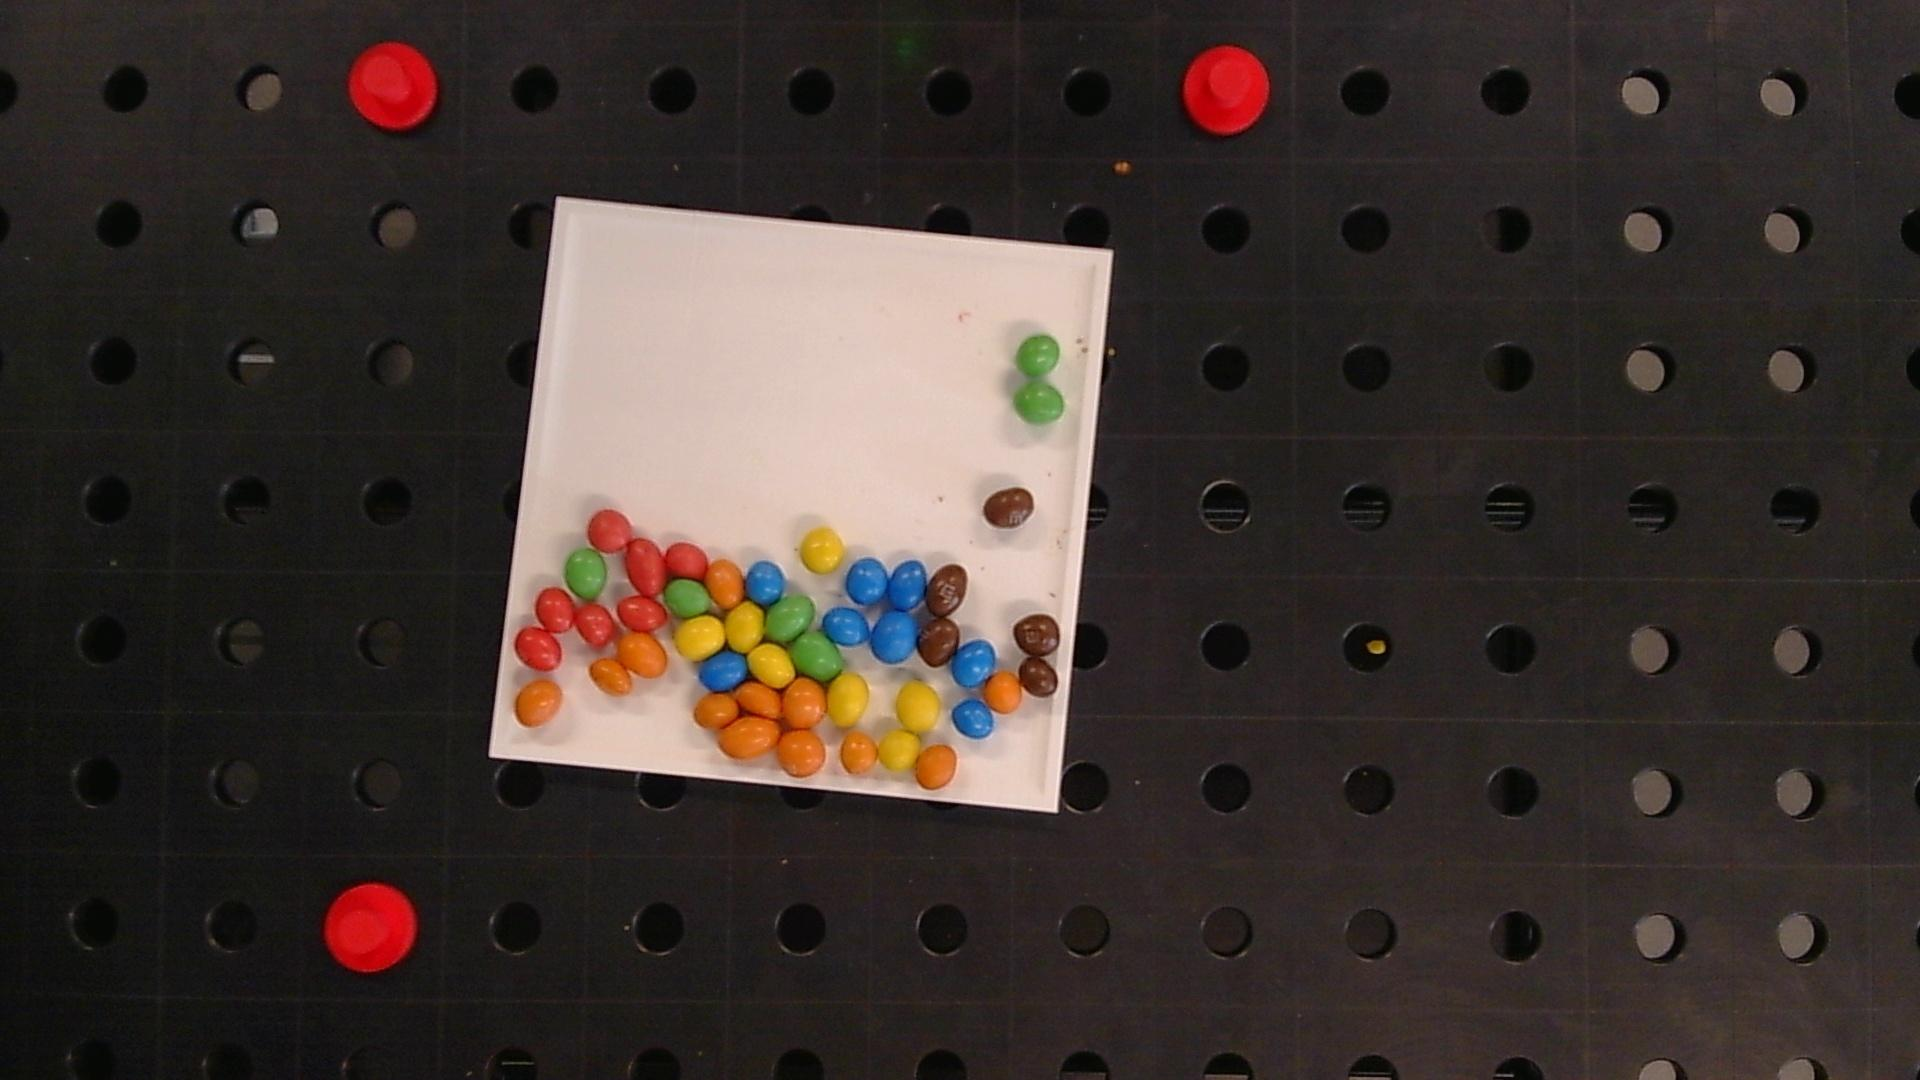blue: (870, 612, 918, 663), (951, 640, 997, 687), (847, 558, 889, 605), (889, 559, 927, 611), (700, 651, 748, 691), (823, 608, 870, 646), (952, 698, 994, 738), (745, 560, 785, 603)
brown: (927, 564, 968, 617), (982, 487, 1035, 527), (1013, 613, 1060, 657), (918, 618, 960, 666), (1018, 658, 1059, 698)
green: (1013, 382, 1067, 425), (793, 633, 841, 679), (564, 547, 607, 600), (765, 596, 814, 641), (1015, 335, 1060, 377), (666, 578, 709, 616)
orange: (719, 716, 781, 758), (617, 633, 667, 678), (777, 731, 825, 775), (514, 680, 563, 725), (783, 679, 825, 727), (914, 744, 956, 790), (707, 559, 744, 607), (984, 671, 1022, 713), (588, 658, 632, 695), (695, 692, 738, 728), (736, 682, 781, 716), (840, 735, 878, 774)
red: (626, 538, 666, 595), (514, 628, 562, 670), (587, 509, 633, 551), (572, 604, 615, 646), (617, 596, 666, 630), (535, 588, 574, 632), (666, 542, 708, 579)
yellow: (674, 615, 724, 661), (895, 682, 940, 732), (827, 674, 868, 727), (800, 527, 844, 572), (750, 645, 795, 686), (727, 603, 764, 651), (878, 729, 920, 770)
